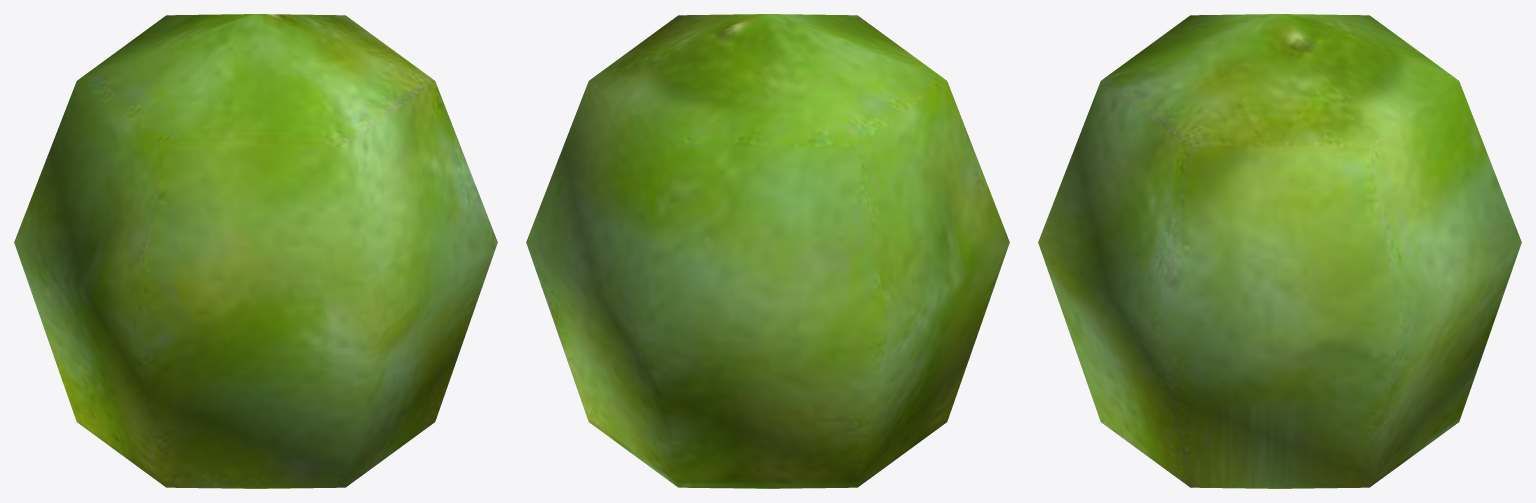
The model's file is lemon.glb.
3 views of the same model, side by side, from view 1: azimuth 30°, elevation 25°; view 2: azimuth 150°, elevation 25°; view 3: azimuth 270°, elevation 25° (orthographic).
Visible parts, largest first — view 1: lemon; view 2: lemon; view 3: lemon.
Part boxes in pixels (<box>): lemon: <box>14,14,497,488</box>; lemon: <box>526,14,1009,488</box>; lemon: <box>1038,14,1521,488</box>.
Bounding box in the file's own units: 0.0897 × 0.1122 × 0.1035.
Materials: 1 (1 with a texture image).
